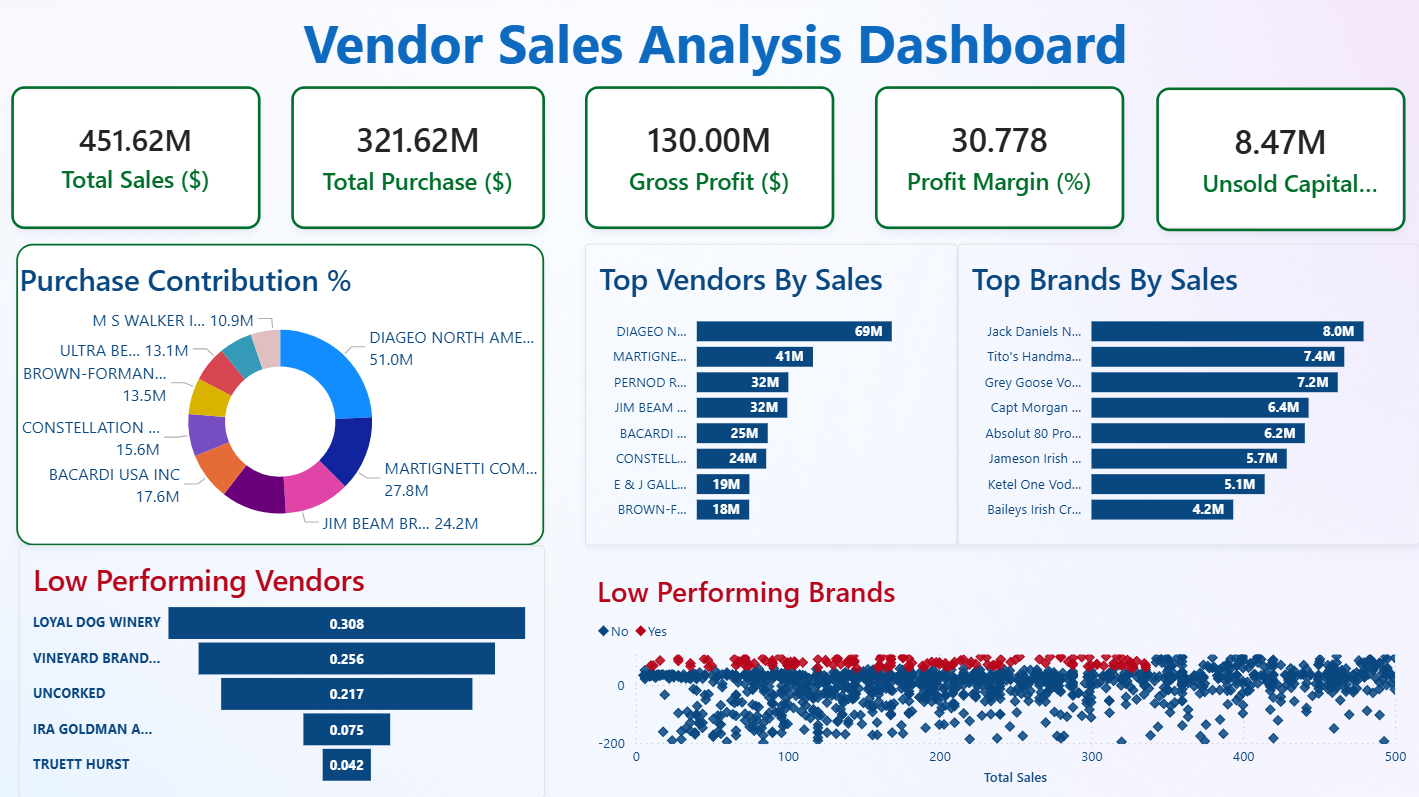

What the dashboard file says about the page in this screenshot:
{"tool":"powerbi","page":{"name":"Page 1","canvas":[1280,720],"ordinal":0},"visuals":[{"type":"textbox","box":[10,0,1270.1,78.4],"z":0},{"type":"cardVisual","fields":{"Data":["Sum(vendor_sales_summary.TotalSalesDollars)"]},"box":[9.6,78.2,225,129],"z":1000},{"type":"cardVisual","fields":{"Data":["Sum(vendor_sales_summary.Gross Profit)"]},"box":[526.9,78.2,225,129],"z":2000},{"type":"cardVisual","fields":{"Data":["Sum(vendor_sales_summary.TotalPurchaseDollars)"]},"box":[262.1,78.2,229.2,129],"z":3000},{"type":"cardVisual","fields":{"Data":["Median(vendor_sales_summary.Profit Margin)"]},"box":[789,78.2,225,129],"z":4000},{"type":"donutChart","title":"Purchase Contribution % ","fields":{"Category":["PurchaseContribution.VendorName"],"Y":["Sum(PurchaseContribution.TotalPurchaseDollars)"]},"box":[15.1,219.6,476.2,271.7],"z":5000},{"type":"barChart","title":"Top Vendors By Sales","fields":{"Category":["vendor_sales_summary.VendorName"],"Y":["Sum(vendor_sales_summary.TotalSalesDollars)"]},"box":[526.9,219.6,336.2,271.7],"z":6000},{"type":"barChart","title":"Top Brands By Sales","fields":{"Category":["vendor_sales_summary.Description"],"Y":["Sum(vendor_sales_summary.TotalSalesDollars)"]},"box":[863.1,219.6,417.2,271.7],"z":7000},{"type":"funnel","title":"Low Performing Vendors","fields":{"Category":["LowTurnoverVendor.VendorName"],"Y":["Avg(LowTurnoverVendor.AvgStockTurnOver)"]},"box":[16.5,491.3,474.8,229.2],"z":8000},{"type":"cardVisual","fields":{"Data":["Sum(vendor_sales_summary.UnsoldCapital)"]},"box":[1042.4,78.4,225.2,129.4],"z":9000},{"type":"scatterChart","title":"Low Performing Brands","fields":{"X":["Sum(BrandPerformance.TotalSales)"],"Y":["Sum(BrandPerformance.AvgProfitMargin)"],"Series":["BrandPerformance.TargetBrand"],"Category":["BrandPerformance.Description"]},"box":[526.7,503.5,753.5,216.3],"z":10000},{"type":"textbox","box":[207.7,344.6,104.5,73.4],"z":10001}]}

Visuals, with their boxes in screenshot pixels (x1, y1, x2, y2), scaled from the page's 1280x720 canvas onto the 1419x797 screenshot:
textbox: region(11, 0, 1418, 87)
cardVisual - Sum(vendor_sales_summary.TotalSalesDollars): region(11, 87, 260, 229)
cardVisual - Sum(vendor_sales_summary.Gross Profit): region(584, 87, 834, 229)
cardVisual - Sum(vendor_sales_summary.TotalPurchaseDollars): region(291, 87, 545, 229)
cardVisual - Median(vendor_sales_summary.Profit Margin): region(875, 87, 1124, 229)
"Purchase Contribution % " donutChart: region(17, 243, 545, 544)
"Top Vendors By Sales" barChart: region(584, 243, 957, 544)
"Top Brands By Sales" barChart: region(957, 243, 1418, 544)
"Low Performing Vendors" funnel: region(18, 544, 545, 796)
cardVisual - Sum(vendor_sales_summary.UnsoldCapital): region(1156, 87, 1405, 230)
"Low Performing Brands" scatterChart: region(584, 557, 1418, 796)
textbox: region(230, 381, 346, 463)
